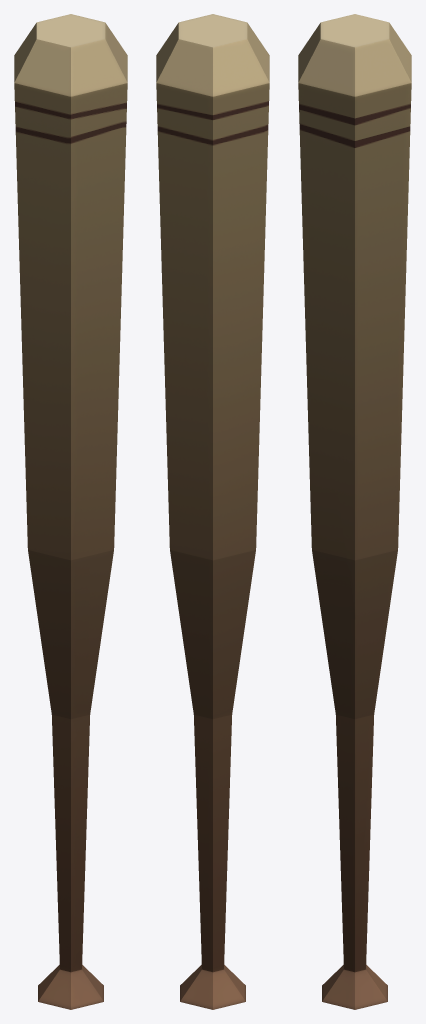
The model's file is bat.fbx.
3 views of the same model, side by side, from view 1: azimuth 90°, elevation 25°; view 2: azimuth 150°, elevation 25°; view 3: azimuth 270°, elevation 25° (orthographic).
Visible parts, largest first — view 1: bat_geo; view 2: bat_geo; view 3: bat_geo.
Part boxes in pixels (<box>): bat_geo: <box>14,14,127,1009</box>; bat_geo: <box>156,14,269,1009</box>; bat_geo: <box>298,14,411,1009</box>.
Size of the model in its own units: 0.163 by 1.32 by 0.1412.
